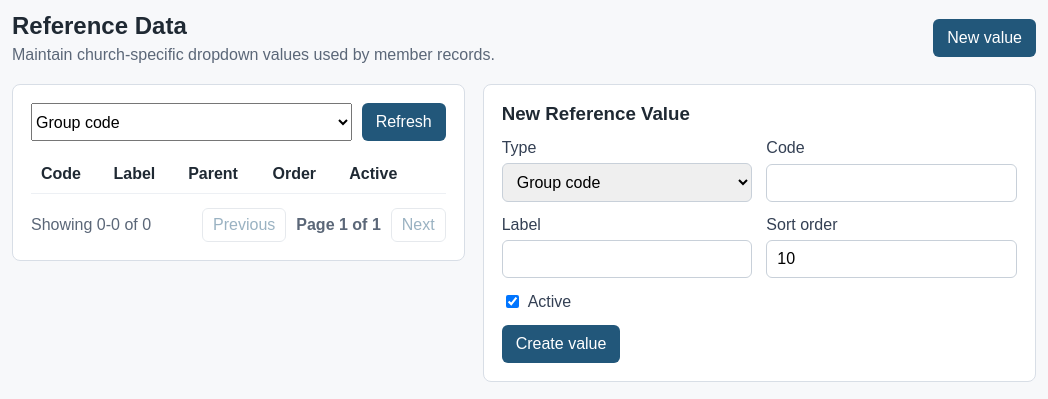
ReferenceDataView › displays parent labels for child reference data rows
This screenshot has width=1048, height=399.
Select "Offering category" in the 1st dropdown: (191, 122) [31,103,352,141]
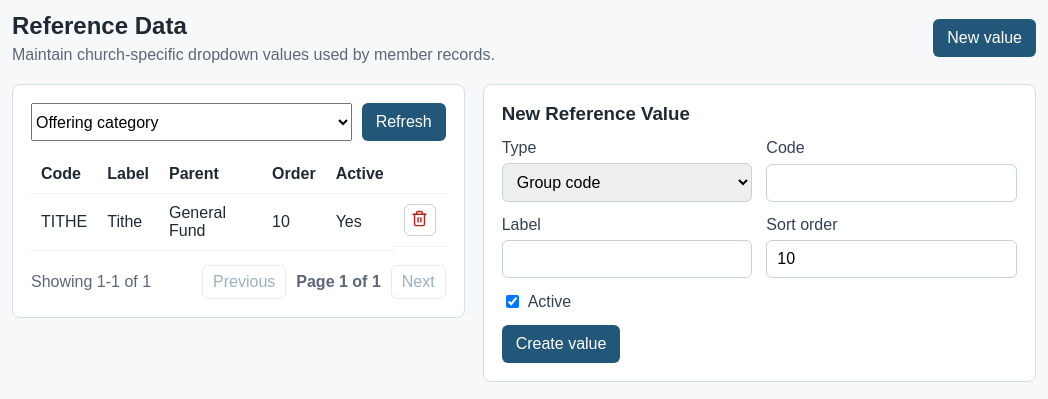
Expected: the text "TITHE" is shown, [41,213,87,230]
Expected: the text "General Fund" is shown, [159,194,262,250]
Select "Financial sub-category" in the 1st dropdown: (191, 122) [31,103,352,141]
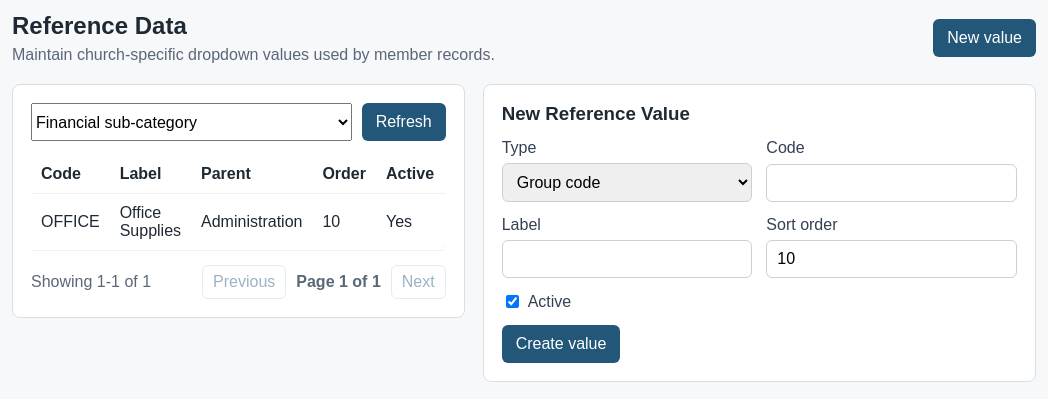
Expected: the text "Office Supplies" is shown, [120,204,181,239]
Expected: the text "Administration" is shown, [191,194,312,250]
